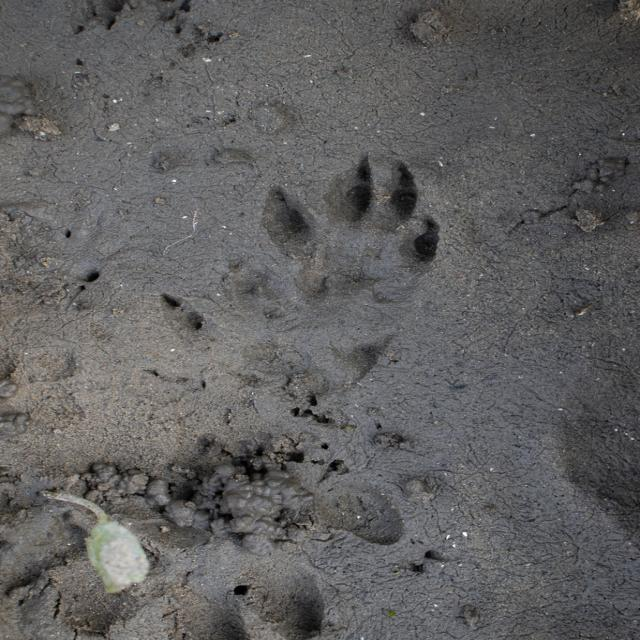mustelid: (264, 158, 448, 370)
